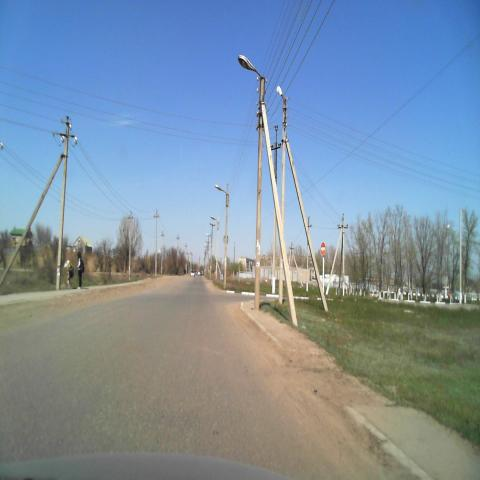3_1: (320, 242, 327, 256)
